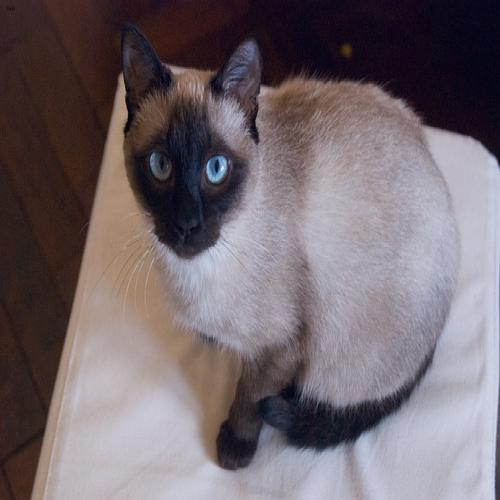siamese: (108, 17, 273, 274)
